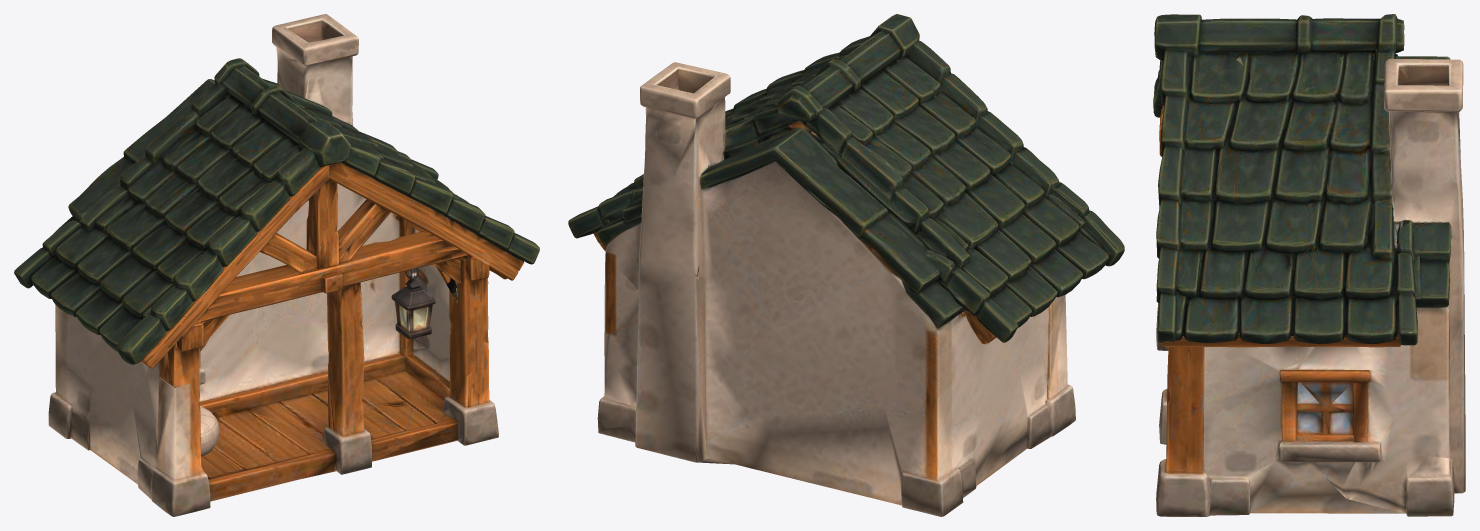
Rendered from green_timber_cottage.glb.
The picture shows the model from 3 angles, left to right: view 1: azimuth 30°, elevation 25°; view 2: azimuth 150°, elevation 25°; view 3: azimuth 270°, elevation 25°; orthographic projection. The views are drawn at different scales.
Visible parts, largest first — view 1: green_timber_cottage; view 2: green_timber_cottage; view 3: green_timber_cottage.
Part boxes in pixels (left/top/right/bottom): green_timber_cottage: left=14, top=14, right=539, bottom=516; green_timber_cottage: left=568, top=14, right=1124, bottom=516; green_timber_cottage: left=1153, top=14, right=1465, bottom=516.
Size of the model in its own units: 3.05 by 2.4 by 1.67.
Materials: 1 (1 with a texture image).
